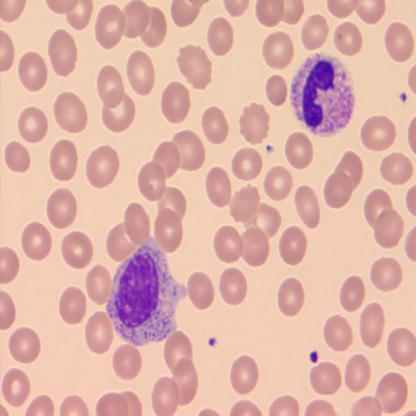Myelocyte: (106, 238, 182, 345), (291, 52, 355, 136)
